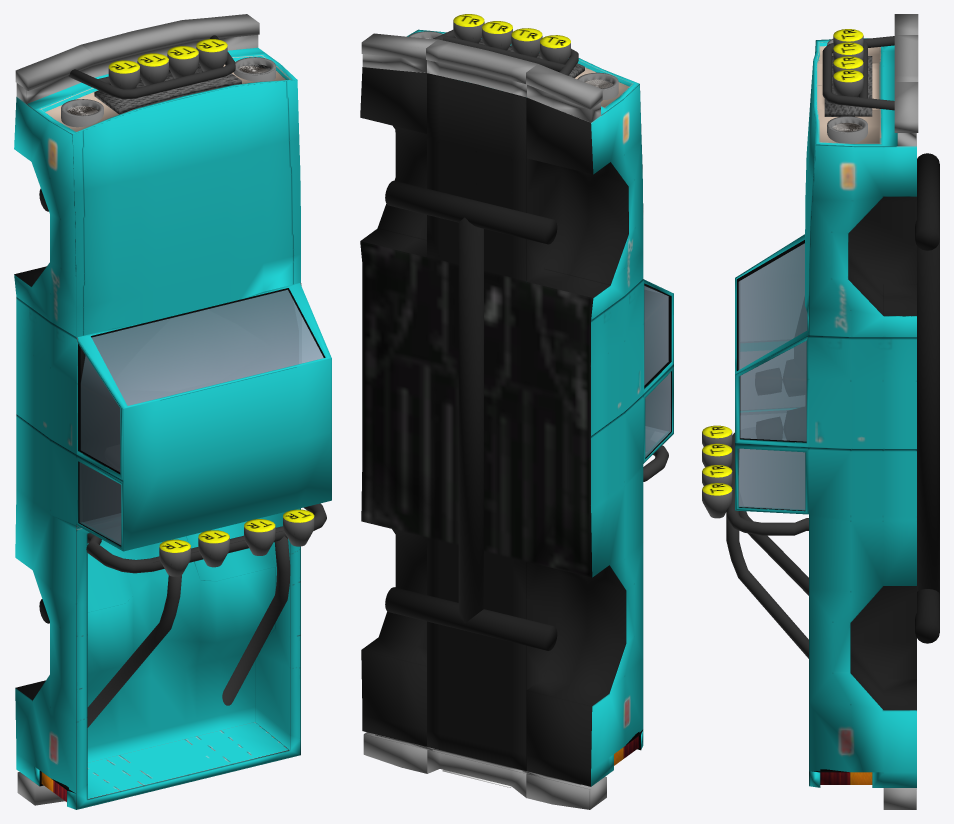
Rendered from truck.obj.
3 views of the same model, side by side, from view 1: azimuth 30°, elevation 25°; view 2: azimuth 150°, elevation 25°; view 3: azimuth 270°, elevation 25° (orthographic). The views are drawn at different scales.
Visible parts, largest first — view 1: Cube_Cube.001; view 2: Cube_Cube.001; view 3: Cube_Cube.001.
Boxes of the visible parts, x1,y1,x2,y2 form: Cube_Cube.001: (14,14,331,809); Cube_Cube.001: (360,14,673,809); Cube_Cube.001: (702,14,939,809).
Bounding box in the file's own units: 1.74 × 5.2 × 1.59.
Materials: 3 (3 with a texture image).
